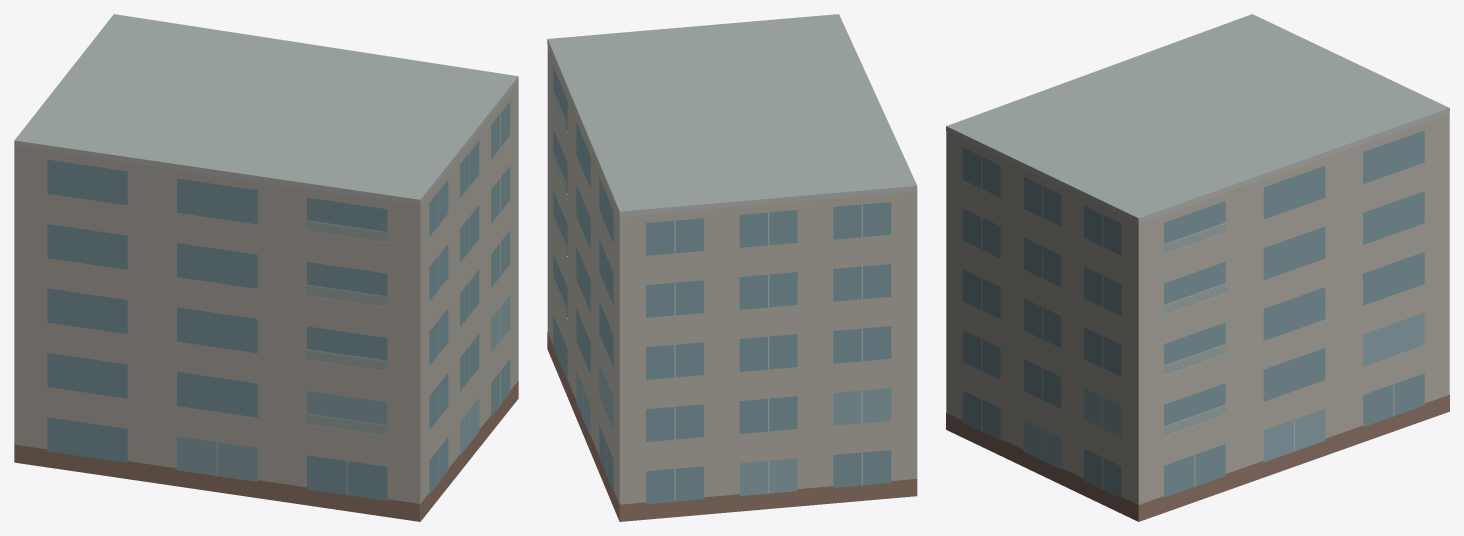
The model's file is survey-upis-32910333.glb.
The picture shows the model from 3 angles, left to right: view 1: azimuth 30°, elevation 25°; view 2: azimuth 150°, elevation 25°; view 3: azimuth 270°, elevation 25°; orthographic projection. The views are drawn at different scales.
Visible parts, largest first — view 1: survey-upis-32910333.tmp; view 2: survey-upis-32910333.tmp; view 3: survey-upis-32910333.tmp.
Boxes of the visible parts, left/top/right/bottom form: survey-upis-32910333.tmp: left=14, top=14, right=518, bottom=521; survey-upis-32910333.tmp: left=547, top=14, right=917, bottom=521; survey-upis-32910333.tmp: left=946, top=14, right=1449, bottom=521.
Bounding box in the file's own units: 20.5 × 14.2 × 21.35.
